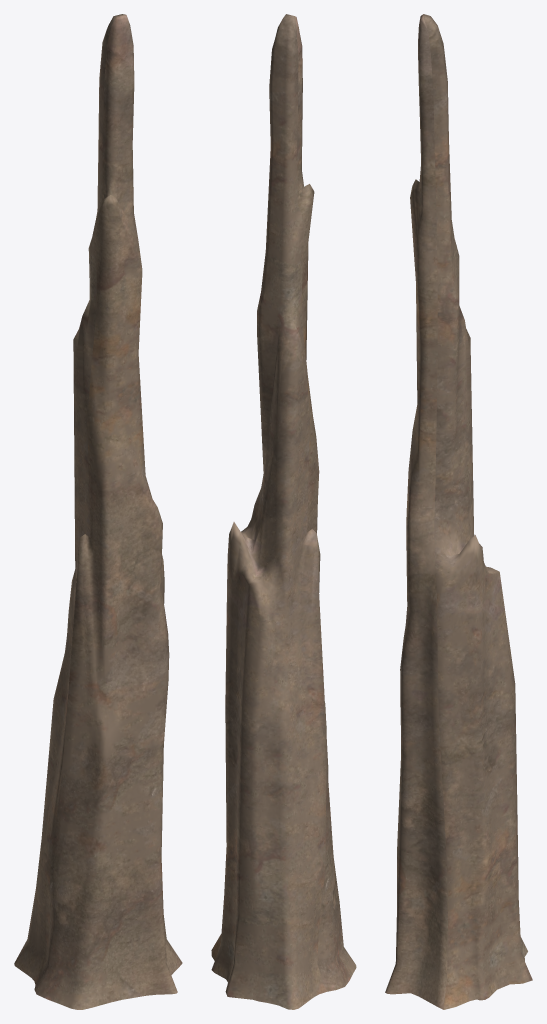
File: stallattite3 1.fbx
3 renders of one model, left to right at view 1: azimuth 30°, elevation 25°; view 2: azimuth 150°, elevation 25°; view 3: azimuth 270°, elevation 25°, orthographic. The views are drawn at different scales.
Visible parts, largest first — view 1: stallattite3; view 2: stallattite3; view 3: stallattite3.
Boxes of the visible parts, x1,y1,x2,y2 form: stallattite3: (14,14,182,1009); stallattite3: (211,14,356,1009); stallattite3: (385,14,532,1009).
Size of the model in its own units: 7.54 by 49.43 by 6.91.
